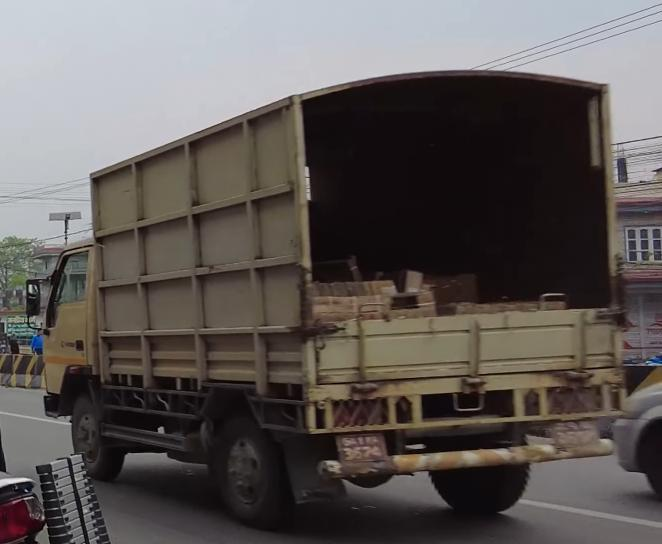mini_truck: (20, 62, 630, 522)
